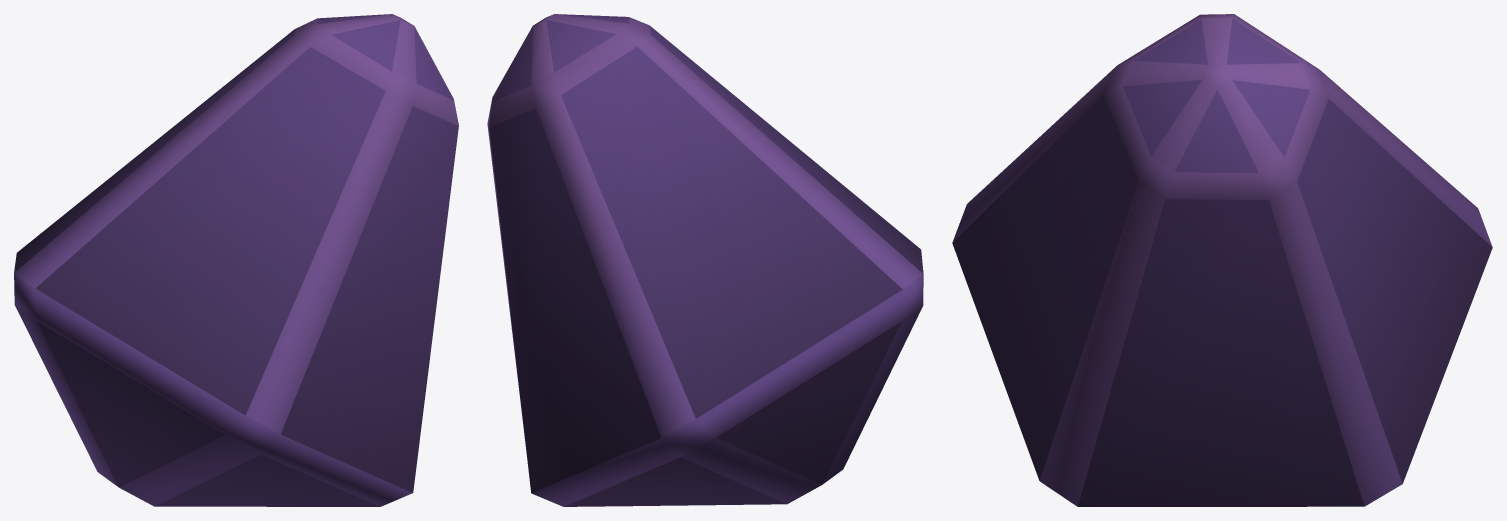
File: christal_amethyst_7.fbx
3 renders of one model, left to right at view 1: azimuth 30°, elevation 25°; view 2: azimuth 150°, elevation 25°; view 3: azimuth 270°, elevation 25°, orthographic. The views are drawn at different scales.
Parts seen in each view (by area): view 1: christal_amethyst_7; view 2: christal_amethyst_7; view 3: christal_amethyst_7.
Part boxes in pixels (x1,y1,x2,y2): christal_amethyst_7: (14,14,458,506); christal_amethyst_7: (487,14,923,506); christal_amethyst_7: (952,14,1492,506).
Bounding box in the file's own units: 47.99 × 48.58 × 48.9.
Materials: 1 (1 with a texture image).
